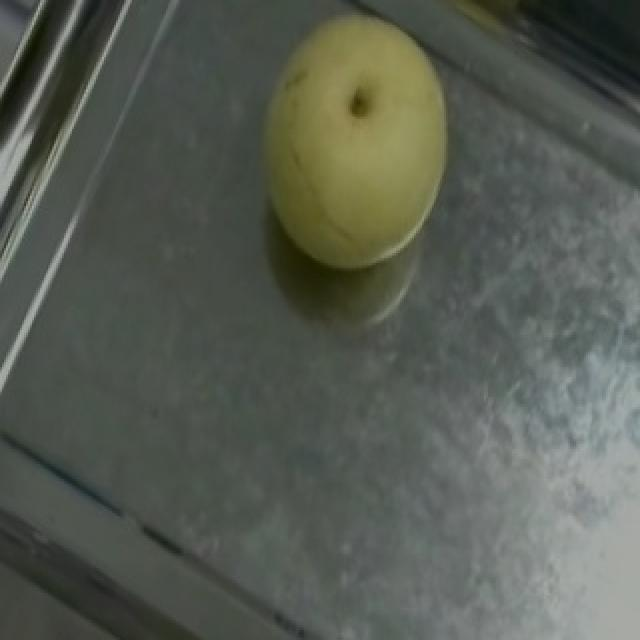Fruit: (208, 0, 478, 303)
